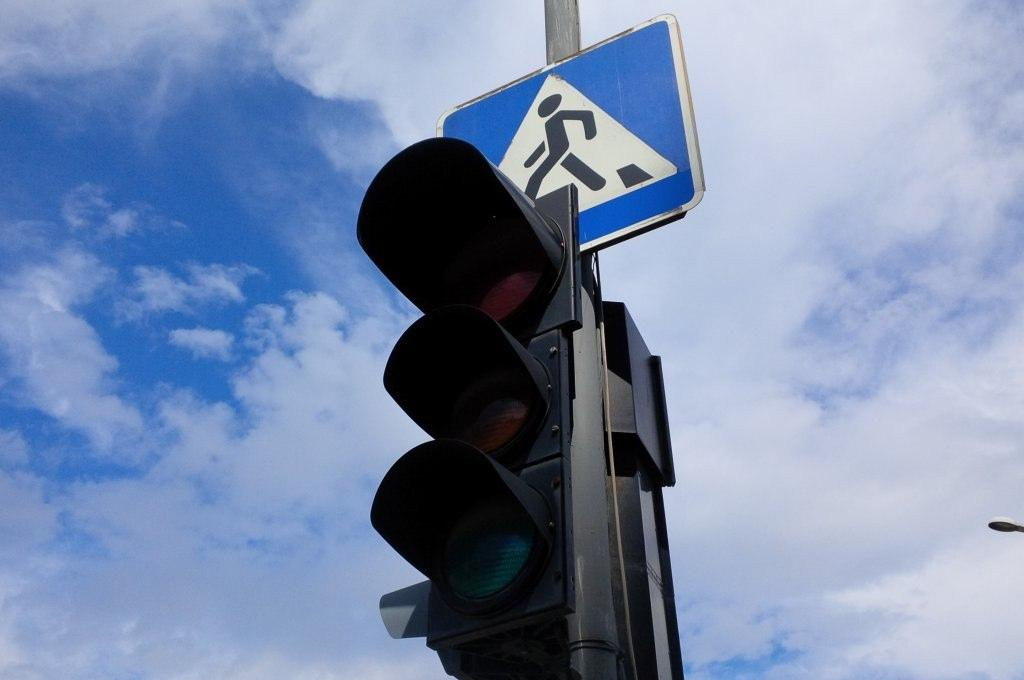obstructed_road_sign: (438, 15, 703, 253)
off traffic light: (357, 137, 579, 650)
